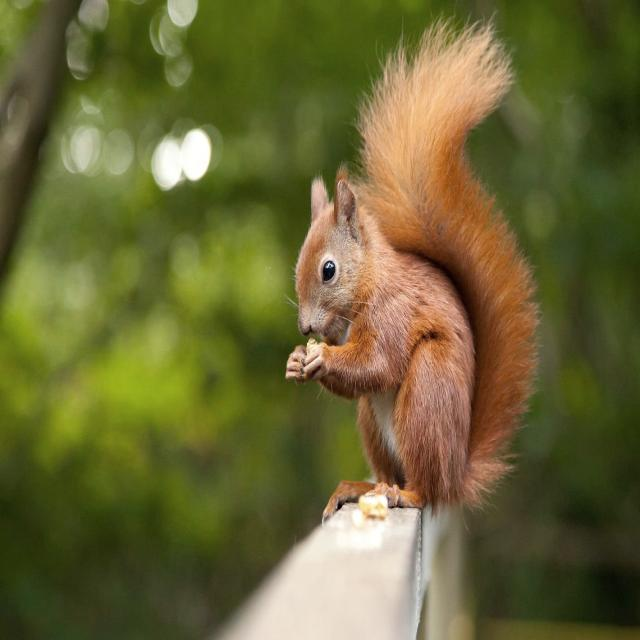squirrel: (286, 20, 538, 507)
